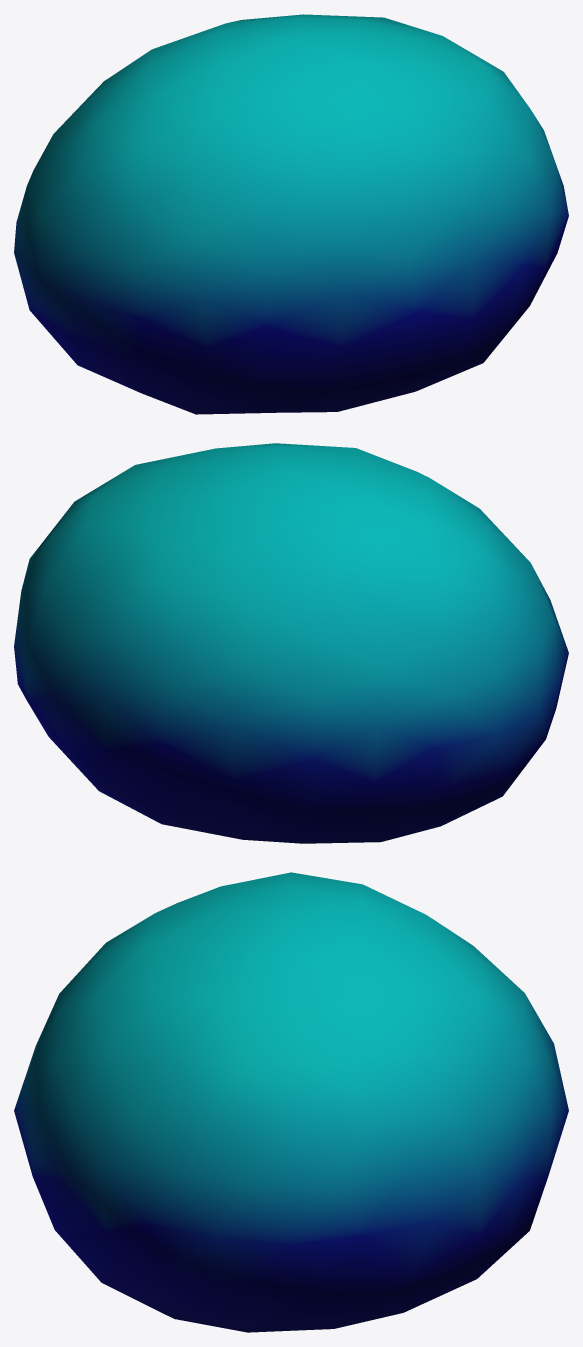
The model's file is RockRounded_3_lod1.glb.
The picture shows the model from 3 angles, top to bottom: view 1: azimuth 30°, elevation 25°; view 2: azimuth 150°, elevation 25°; view 3: azimuth 270°, elevation 25°; orthographic projection. The views are drawn at different scales.
Parts seen in each view (by area): view 1: RockRounded_3_lod1; view 2: RockRounded_3_lod1; view 3: RockRounded_3_lod1.
Boxes of the visible parts, bbox=[...] form: RockRounded_3_lod1: bbox=[14, 14, 568, 414]; RockRounded_3_lod1: bbox=[14, 443, 568, 843]; RockRounded_3_lod1: bbox=[14, 872, 568, 1332].
Bounding box in the file's own units: 1.63 × 1.01 × 1.44.
